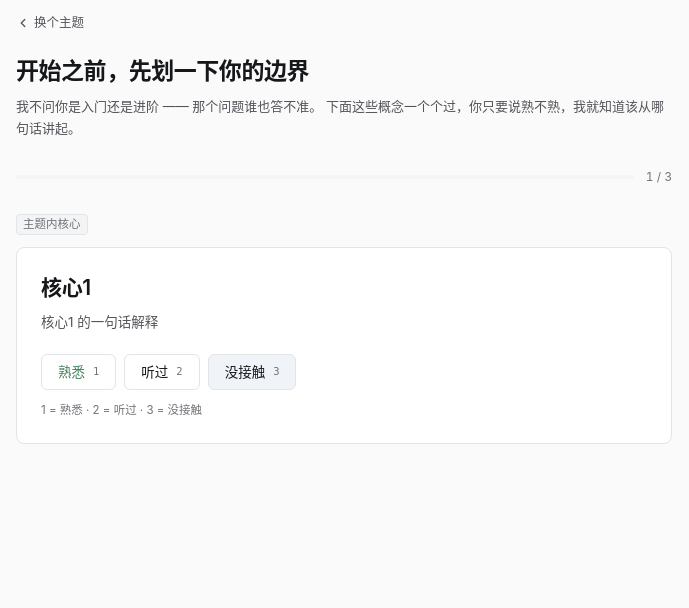
CalibratePage › 最深档全勾熟悉时当场说这门课太浅
Expected: the text "核心1" is shown, [41,275,91,300]
Click the text "熟悉".
click(72, 372)  # box [58,362,85,382]
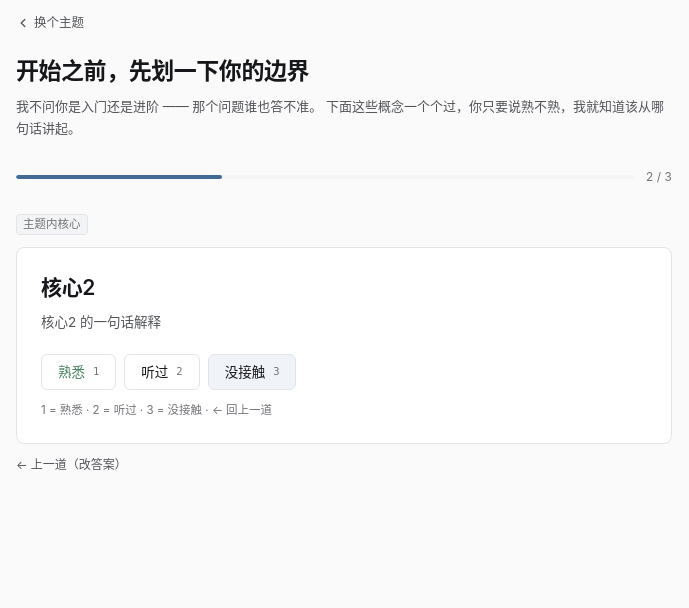
Click the text "熟悉".
click(72, 372)  # box [58,362,85,382]
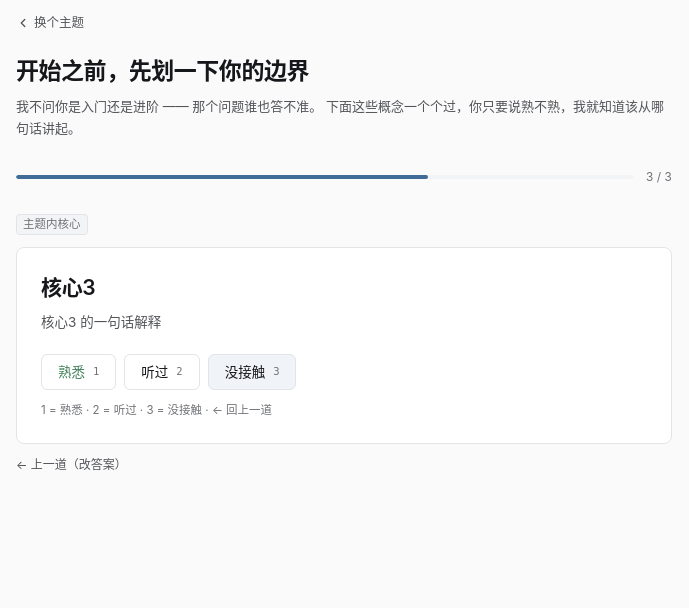
Click the text "熟悉".
click(72, 372)  # box [58,362,85,382]
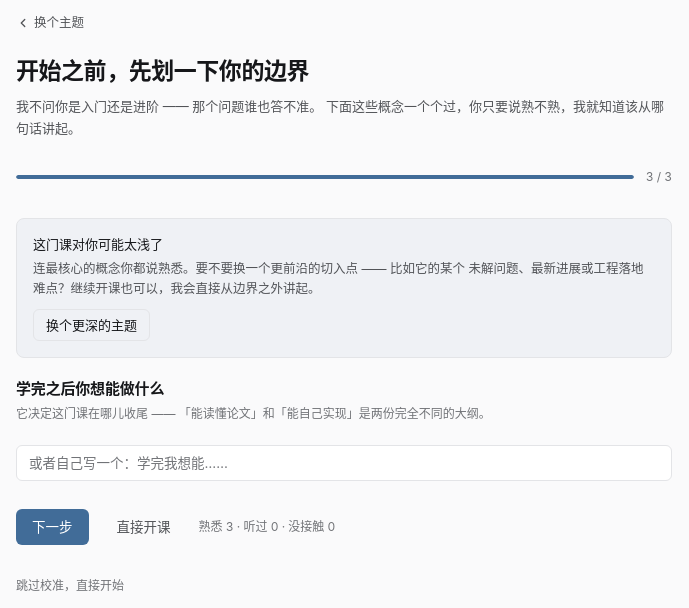
Now the text "这门课对你可能太浅了" is shown, box [33,236,163,252]
